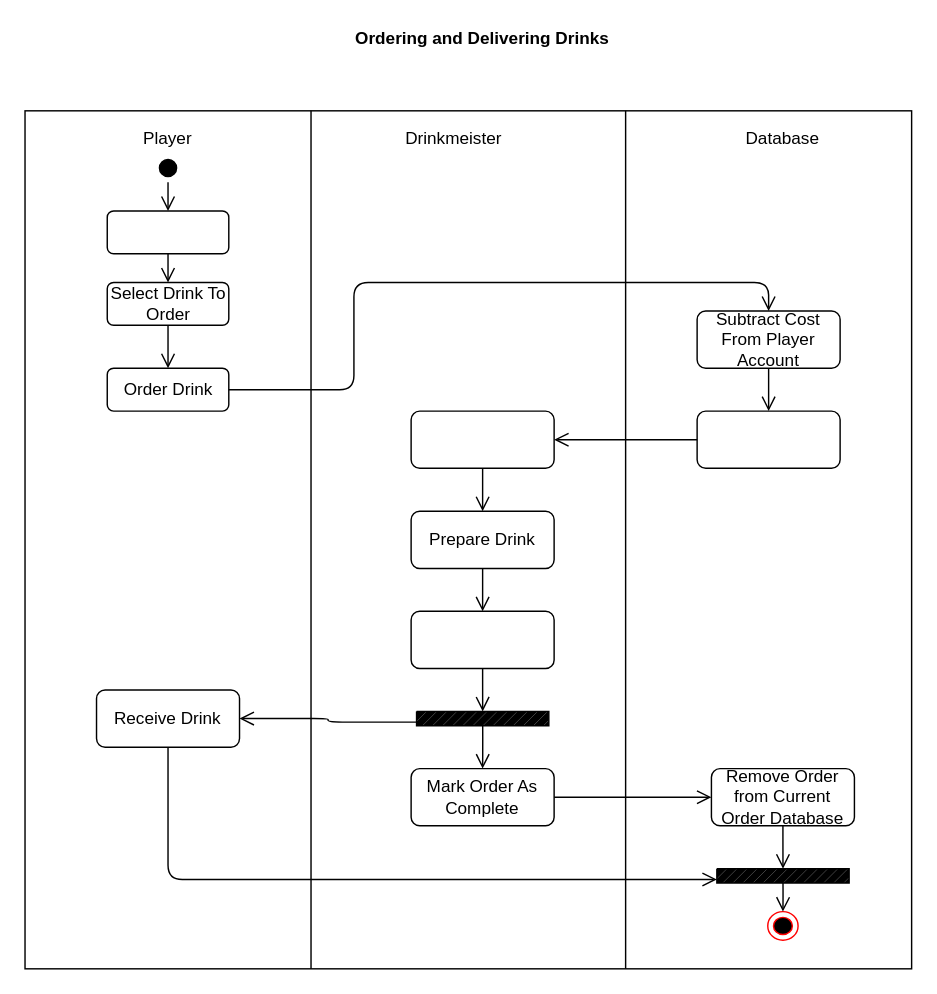
Image size: 937x994. Some labels were removed from this diagram. Here are the shapes that lost their labels. From the top down, the centre of each, then its label:
At [167,231]: "Open Drink Menu".
At [482,439]: "Receive Drink Order Details".
At [768,439]: "Drink Order Added to Current Order Database".
At [482,639]: "Deliver Drink".
